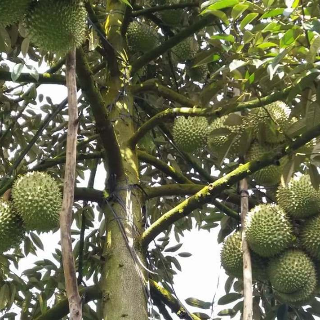sau_rieng: (12, 168, 64, 233), (245, 200, 293, 258)
